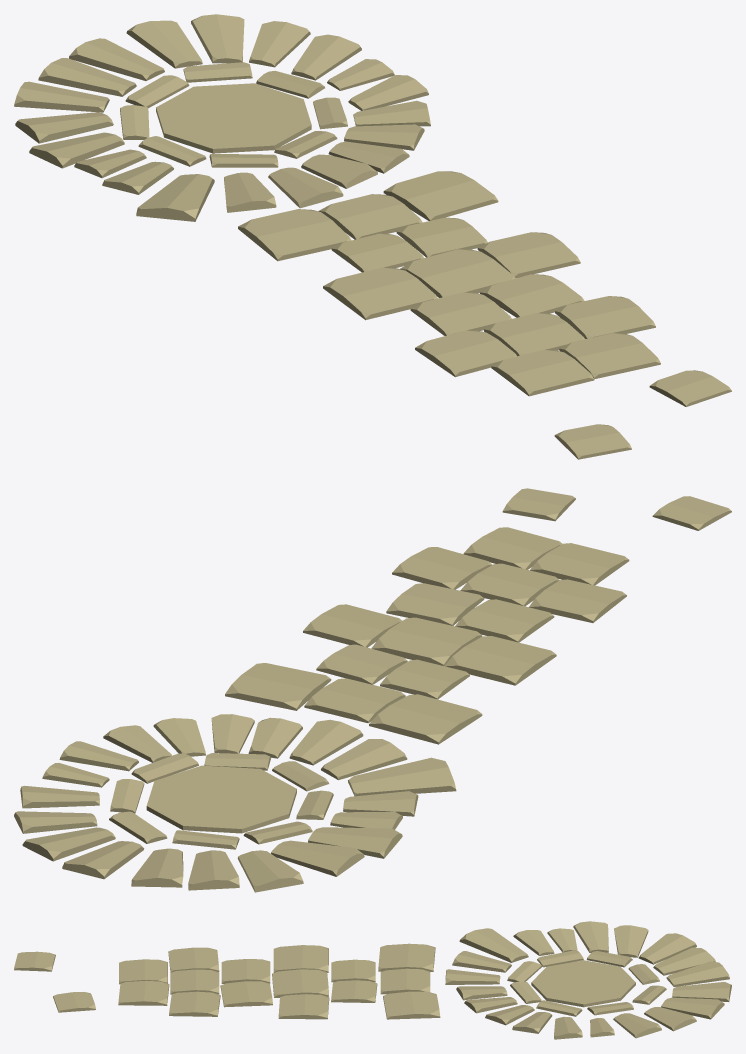
The model's file is Circletile_low.fbx.
The picture shows the model from 3 angles, top to bottom: view 1: azimuth 30°, elevation 25°; view 2: azimuth 150°, elevation 25°; view 3: azimuth 270°, elevation 25°; orthographic projection. The views are drawn at different scales.
Visible parts, largest first — view 1: Circletile_low; view 2: Circletile_low; view 3: Circletile_low.
Boxes of the visible parts, left/top/right/bottom form: Circletile_low: left=14, top=14, right=731, bottom=459; Circletile_low: left=14, top=488, right=731, bottom=892; Circletile_low: left=14, top=921, right=731, bottom=1039.
Size of the model in its own units: 331 by 13 by 884.
